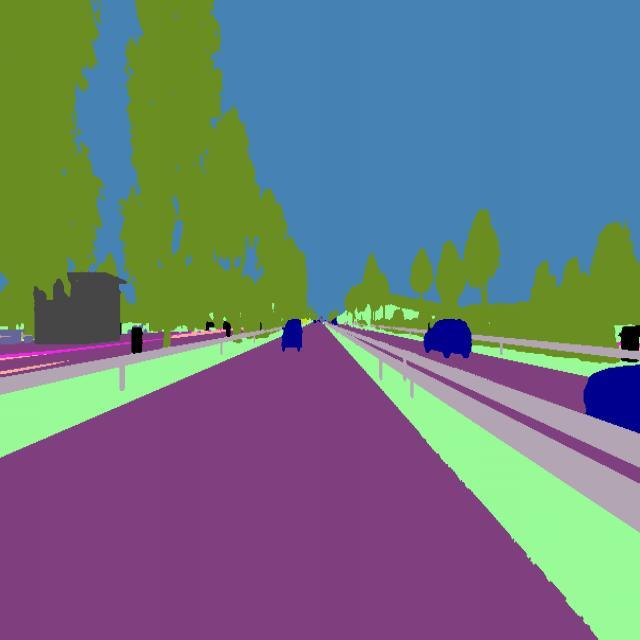safe: (582, 354, 640, 443), (420, 314, 476, 358), (278, 315, 306, 357)
